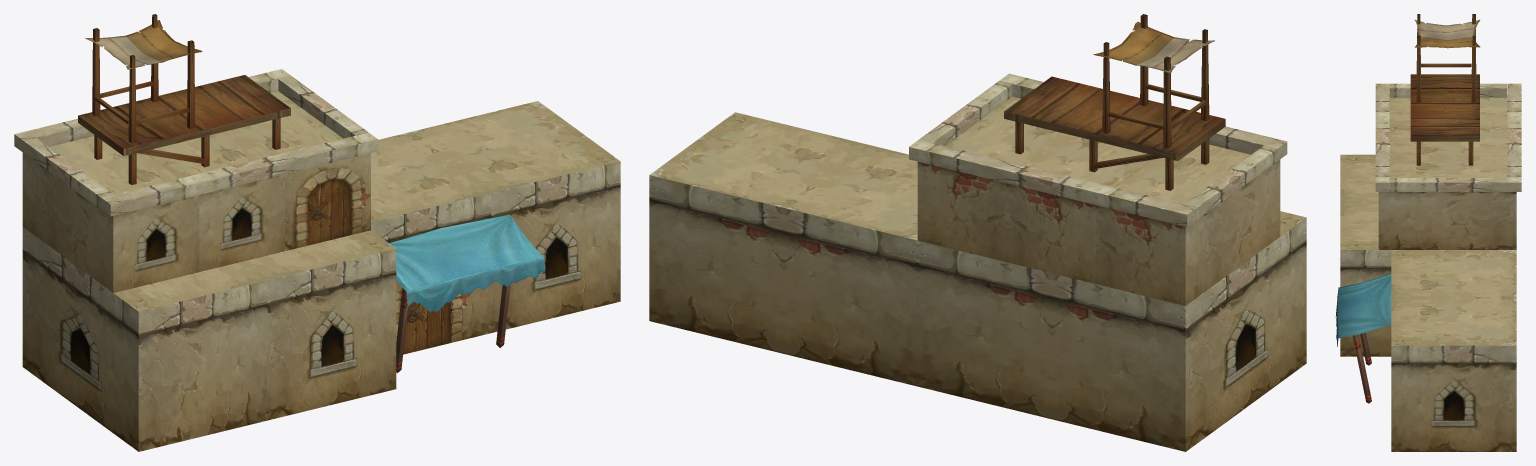
Rendered from shamo_fangzi_3.fbx.
The picture shows the model from 3 angles, left to right: view 1: azimuth 30°, elevation 25°; view 2: azimuth 150°, elevation 25°; view 3: azimuth 270°, elevation 25°; orthographic projection. The views are drawn at different scales.
Parts seen in each view (by area): view 1: polySurface100, polySurface99, polySurface101, polySurface106, polySurface109, polySurface102, polySurface122, polySurface104, polySurface103, polySurface105, polySurface120, polySurface119 (+2 smaller); view 2: polySurface99, polySurface100, polySurface101, polySurface109, polySurface105, polySurface122, polySurface104, polySurface103, polySurface102, polySurface119, polySurface121, polySurface118; view 3: polySurface99, polySurface101, polySurface100, polySurface109, polySurface106, polySurface103, polySurface105, polySurface102, polySurface122, polySurface104, polySurface107, polySurface120 (+3 smaller).
Boxes of the visible parts, <box> form: polySurface100: <box>22,227,396,451</box>; polySurface99: <box>371,101,620,354</box>; polySurface101: <box>22,91,370,292</box>; polySurface106: <box>389,214,544,311</box>; polySurface109: <box>78,75,290,155</box>; polySurface102: <box>101,132,378,216</box>; polySurface122: <box>85,20,202,69</box>; polySurface104: <box>24,138,113,209</box>; polySurface103: <box>278,76,368,138</box>; polySurface105: <box>14,69,290,152</box>; polySurface120: <box>187,40,195,128</box>; polySurface119: <box>92,28,100,116</box>; polySurface99: <box>649,112,917,386</box>; polySurface100: <box>917,211,1306,451</box>; polySurface101: <box>917,96,1280,305</box>; polySurface109: <box>1004,76,1225,160</box>; polySurface105: <box>909,140,1196,227</box>; polySurface122: <box>1093,21,1214,73</box>; polySurface104: <box>1184,145,1277,219</box>; polySurface103: <box>919,81,1012,145</box>; polySurface102: <box>999,73,1287,160</box>; polySurface119: <box>1163,56,1171,148</box>; polySurface121: <box>1102,42,1110,133</box>; polySurface118: <box>1201,29,1209,120</box>; polySurface99: <box>1391,250,1516,451</box>; polySurface101: <box>1378,95,1516,249</box>; polySurface100: <box>1340,154,1391,356</box>; polySurface109: <box>1410,74,1479,141</box>; polySurface106: <box>1335,273,1391,346</box>; polySurface103: <box>1390,178,1507,191</box>; polySurface105: <box>1507,83,1521,191</box>; polySurface102: <box>1375,83,1389,191</box>; polySurface122: <box>1414,19,1480,48</box>; polySurface104: <box>1389,83,1506,97</box>; polySurface107: <box>1352,334,1371,403</box>; polySurface120: <box>1416,35,1420,102</box>.
Size of the model in its own units: 22.87 by 14.62 by 9.34.
